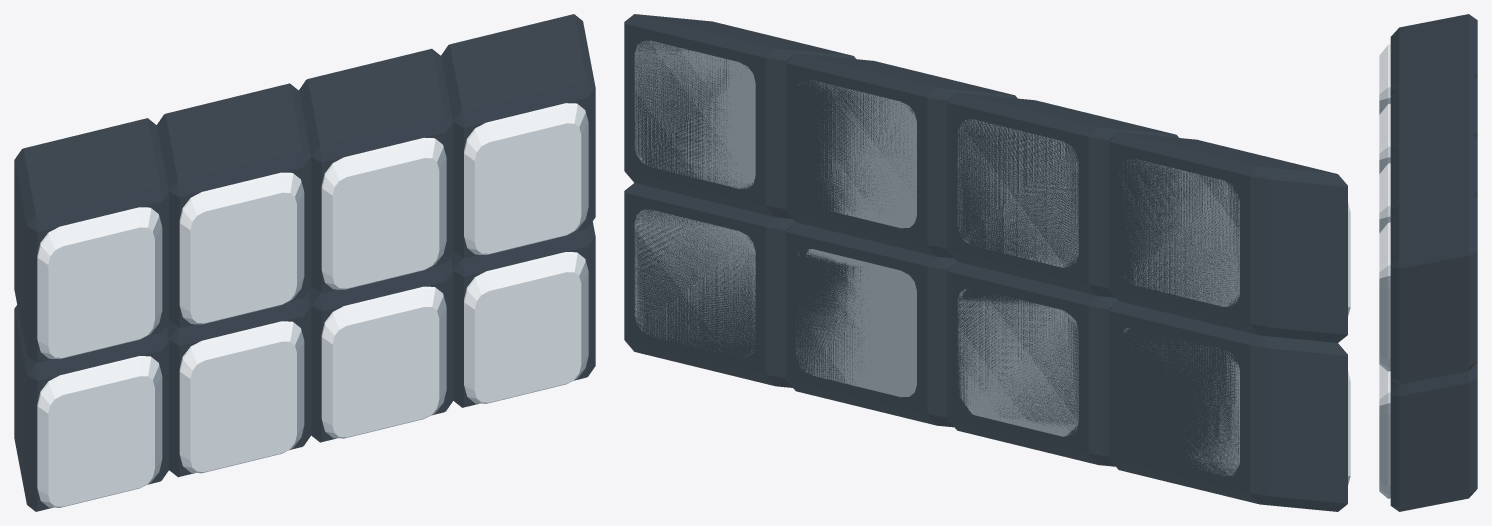
The model's file is Terrain_Block4x2.gltf.
3 views of the same model, side by side, from view 1: azimuth 30°, elevation 25°; view 2: azimuth 150°, elevation 25°; view 3: azimuth 270°, elevation 25° (orthographic). The views are drawn at different scales.
Visible parts, largest first — view 1: Terrain_Block4x2_baked; view 2: Terrain_Block4x2_baked; view 3: Terrain_Block4x2_baked.
Boxes of the visible parts, x1=… form: Terrain_Block4x2_baked: x1=14, y1=14, x2=595, y2=511; Terrain_Block4x2_baked: x1=624, y1=14, x2=1350, y2=511; Terrain_Block4x2_baked: x1=1379, y1=14, x2=1477, y2=511.
Bounding box in the file's own units: 4.2 × 2.2 × 0.7.
